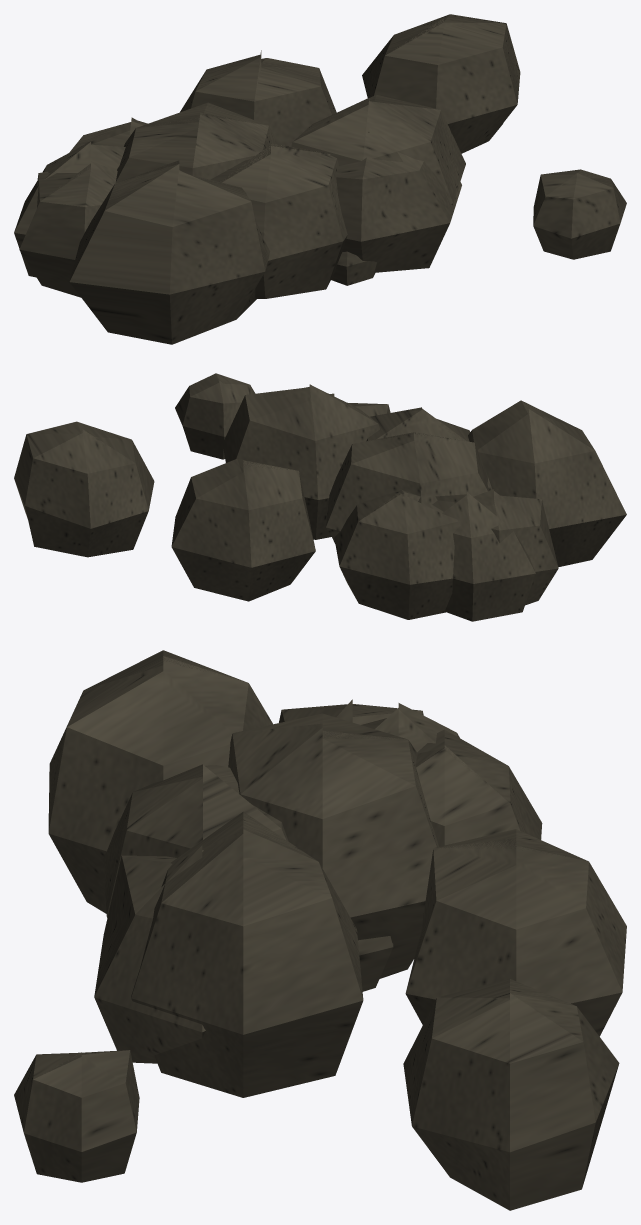
Rendered from PROP-10F3F5166282_lod2.glb.
3 views of the same model, one above another, from view 1: azimuth 30°, elevation 25°; view 2: azimuth 150°, elevation 25°; view 3: azimuth 270°, elevation 25° (orthographic). The views are drawn at different scales.
Visible parts, largest first — view 1: rock.004; view 2: rock.004; view 3: rock.004.
Boxes of the visible parts, box(x1,y1,x2,y2) form: rock.004: box(14, 14, 626, 344); rock.004: box(14, 373, 626, 621); rock.004: box(14, 650, 626, 1210).
Size of the model in its own units: 1.59 by 0.418 by 0.996.
Materials: 1 (1 with a texture image).
